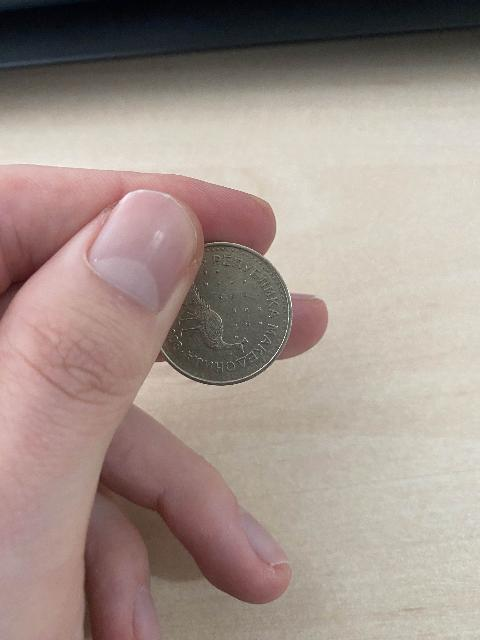10_coin: (162, 243, 292, 385)
